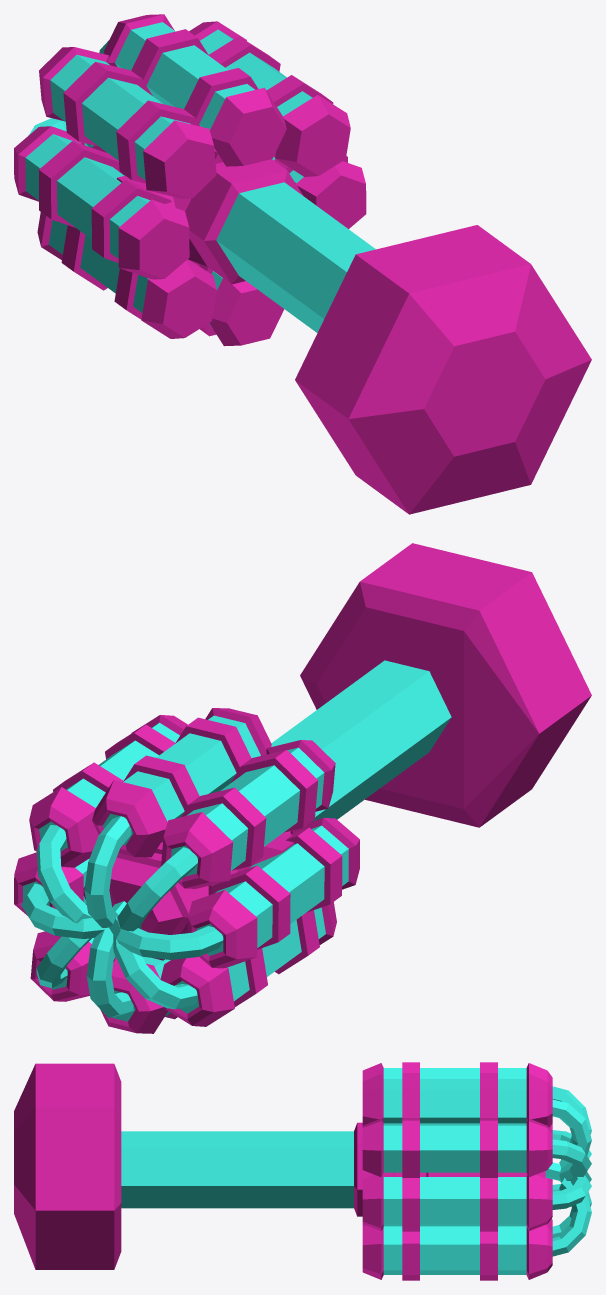
File: TeslaCoil.fbx
The picture shows the model from 3 angles, top to bottom: view 1: azimuth 30°, elevation 25°; view 2: azimuth 150°, elevation 25°; view 3: azimuth 270°, elevation 25°; orthographic projection. The views are drawn at different scales.
Parts seen in each view (by area): view 1: TeslaCoil; view 2: TeslaCoil; view 3: TeslaCoil.
Boxes of the visible parts, <box> form: TeslaCoil: <box>14,14,591,514</box>; TeslaCoil: <box>14,543,591,1033</box>; TeslaCoil: <box>14,1062,591,1280</box>.
Bounding box in the file's own units: 76.3 × 73.03 × 208.
